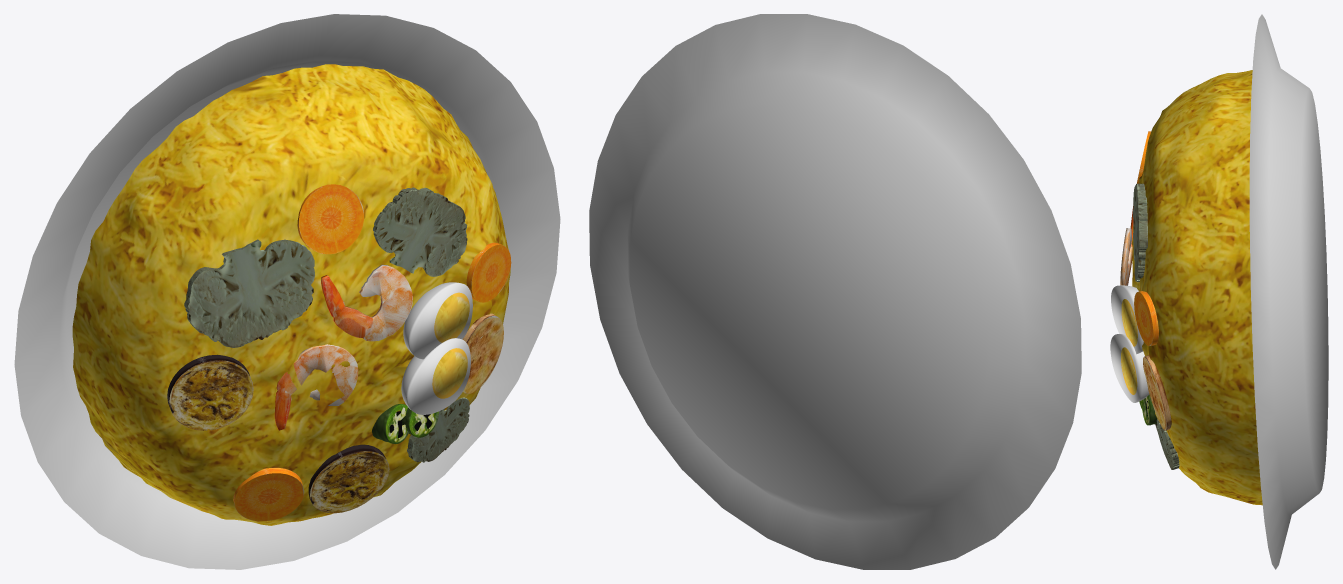
Rendered from maqloobahshrimp-v7.glb.
3 views of the same model, side by side, from view 1: azimuth 30°, elevation 25°; view 2: azimuth 150°, elevation 25°; view 3: azimuth 270°, elevation 25° (orthographic). The views are drawn at different scales.
Visible parts, largest first — view 1: Sphere.005, Circle.001, Vert.002, Vert.004, Cylinder.012, Cylinder.014, Vert.007, Sphere.003, Cylinder.007, Sphere.004, Cylinder.013, Vert.006 (+5 smaller); view 2: Circle.001; view 3: Sphere.005, Circle.001, Sphere.003, Sphere.004, Vert.004, Cylinder.011, Cylinder.016, Vert.007, Vert.005, Cylinder.015.
Boxes of the visible parts, <box> form: Sphere.005: <box>72,64,510,525</box>; Circle.001: <box>14,14,560,569</box>; Vert.002: <box>184,239,314,347</box>; Vert.004: <box>373,187,467,276</box>; Cylinder.012: <box>167,354,253,430</box>; Cylinder.014: <box>308,444,389,513</box>; Vert.007: <box>321,264,412,341</box>; Sphere.003: <box>401,338,470,414</box>; Cylinder.007: <box>297,184,363,254</box>; Sphere.004: <box>403,282,472,359</box>; Cylinder.013: <box>233,467,304,521</box>; Vert.006: <box>274,344,358,430</box>; Circle.001: <box>589,14,1081,569</box>; Sphere.005: <box>1131,70,1262,505</box>; Circle.001: <box>1249,14,1328,569</box>; Sphere.003: <box>1110,334,1149,402</box>; Sphere.004: <box>1111,285,1143,354</box>; Vert.004: <box>1133,183,1147,281</box>; Cylinder.011: <box>1143,355,1171,430</box>; Cylinder.016: <box>1134,291,1158,346</box>; Vert.007: <box>1120,206,1133,285</box>; Vert.005: <box>1156,419,1179,469</box>; Cylinder.015: <box>1141,394,1157,425</box>.
Size of the model in its own units: 7.16 by 7.16 by 2.82.
Materials: 16 (13 with a texture image).
